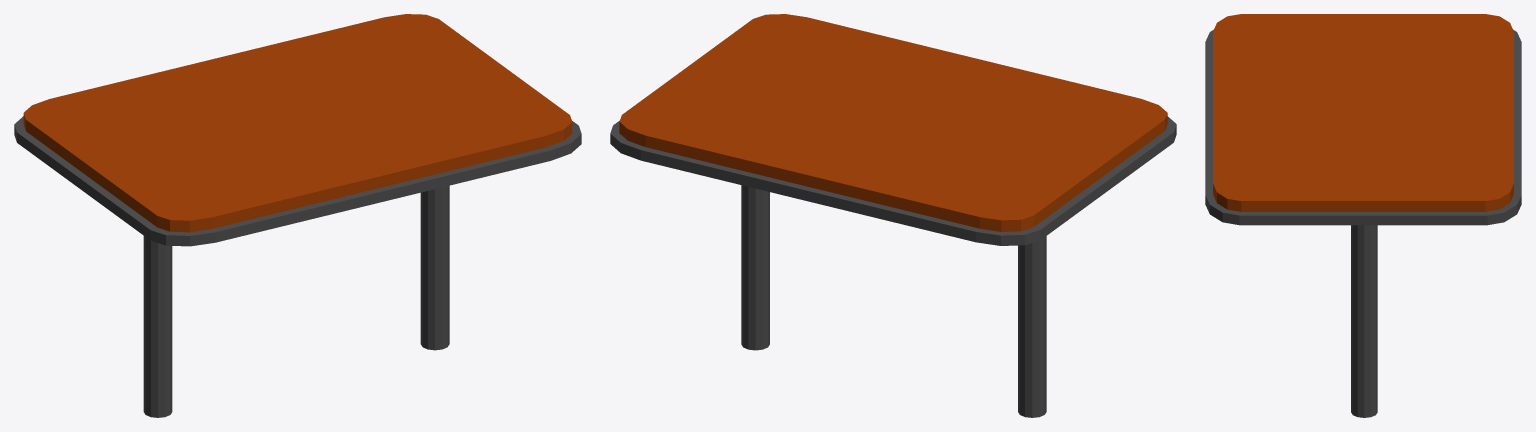
File: table_6.fbx
3 renders of one model, left to right at view 1: azimuth 30°, elevation 25°; view 2: azimuth 150°, elevation 25°; view 3: azimuth 270°, elevation 25°, orthographic. The views are drawn at different scales.
Parts seen in each view (by area): view 1: Table_1; view 2: Table_1; view 3: Table_1.
Part boxes in pixels (bbox=[...]): Table_1: bbox=[14, 14, 581, 417]; Table_1: bbox=[610, 14, 1176, 417]; Table_1: bbox=[1205, 14, 1521, 417].
Bounding box in the file's own units: 2.99 × 1.74 × 2.06.
